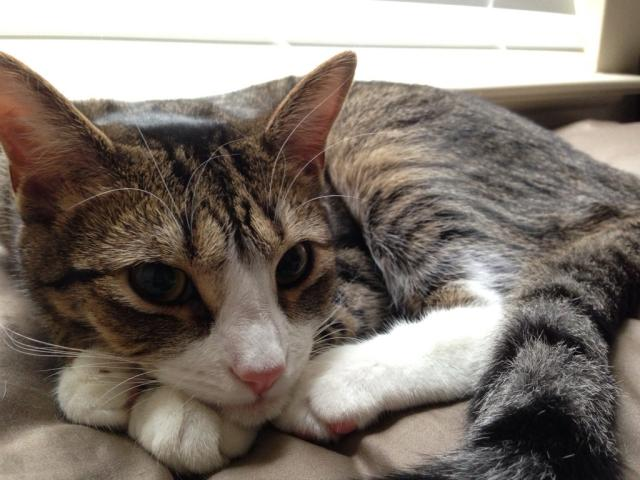Cat: (0, 53, 640, 478)
